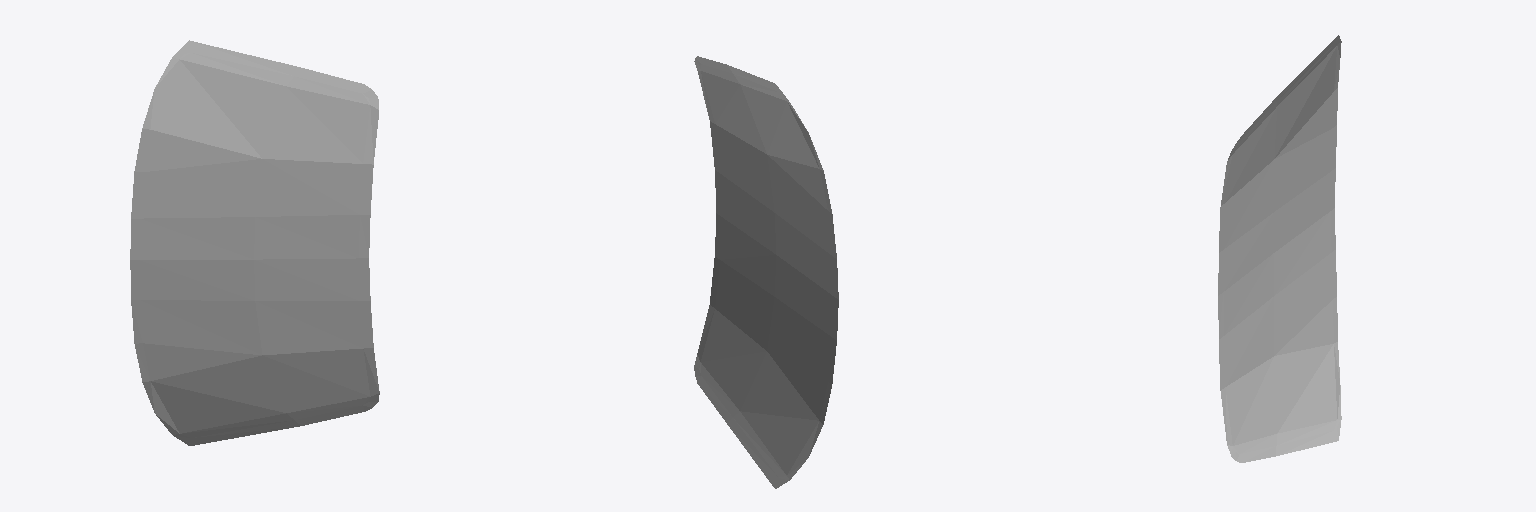
The model's file is windshield_front.obj.
3 views of the same model, side by side, from view 1: azimuth 30°, elevation 25°; view 2: azimuth 150°, elevation 25°; view 3: azimuth 270°, elevation 25° (orthographic).
Parts seen in each view (by area): view 1: car.005; view 2: car.005; view 3: car.005.
Boxes of the visible parts, box(x1,y1,x2,y2) form: car.005: box(130, 40, 379, 445); car.005: box(694, 56, 838, 488); car.005: box(1218, 35, 1341, 462).
Size of the model in its own units: 3.1 by 6.12 by 1.68.